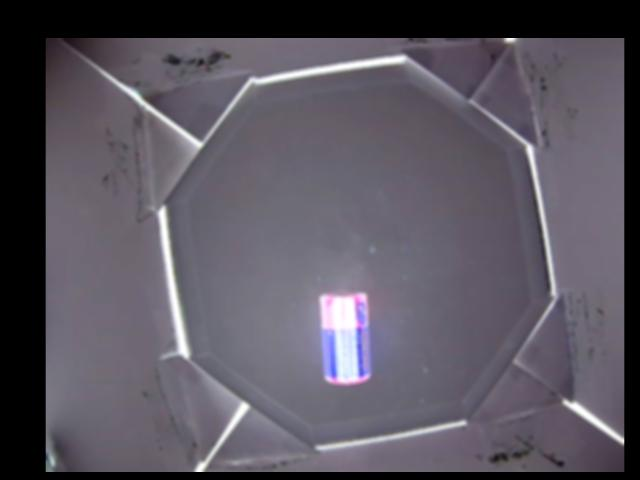Battery: (323, 290, 370, 386)
